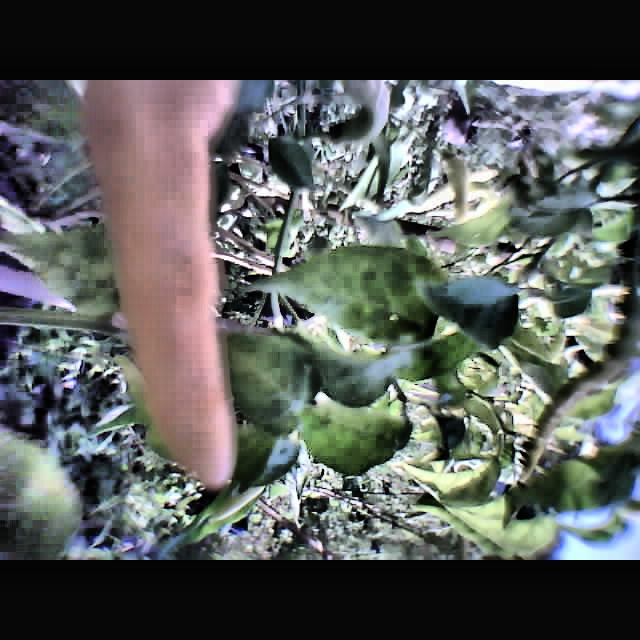Cabai: (75, 82, 250, 479)
